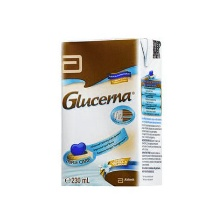carton: (57, 34, 165, 187)
